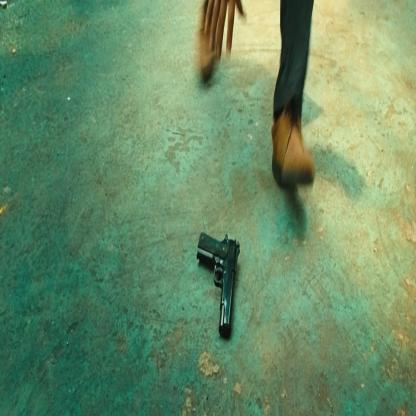gun: (184, 212, 248, 346)
